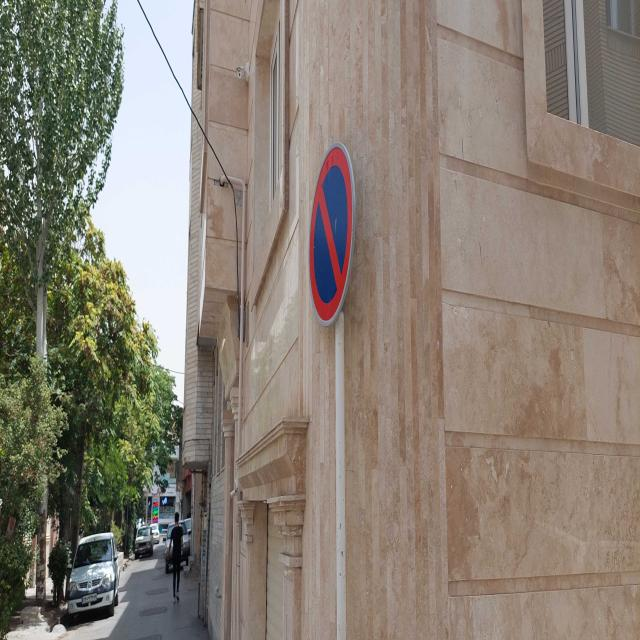forb_stopping: (308, 139, 355, 325)
